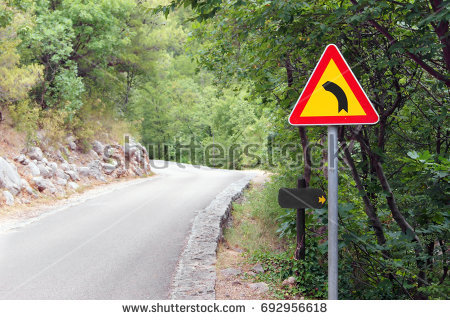Bend_to_left: (286, 43, 380, 128)
